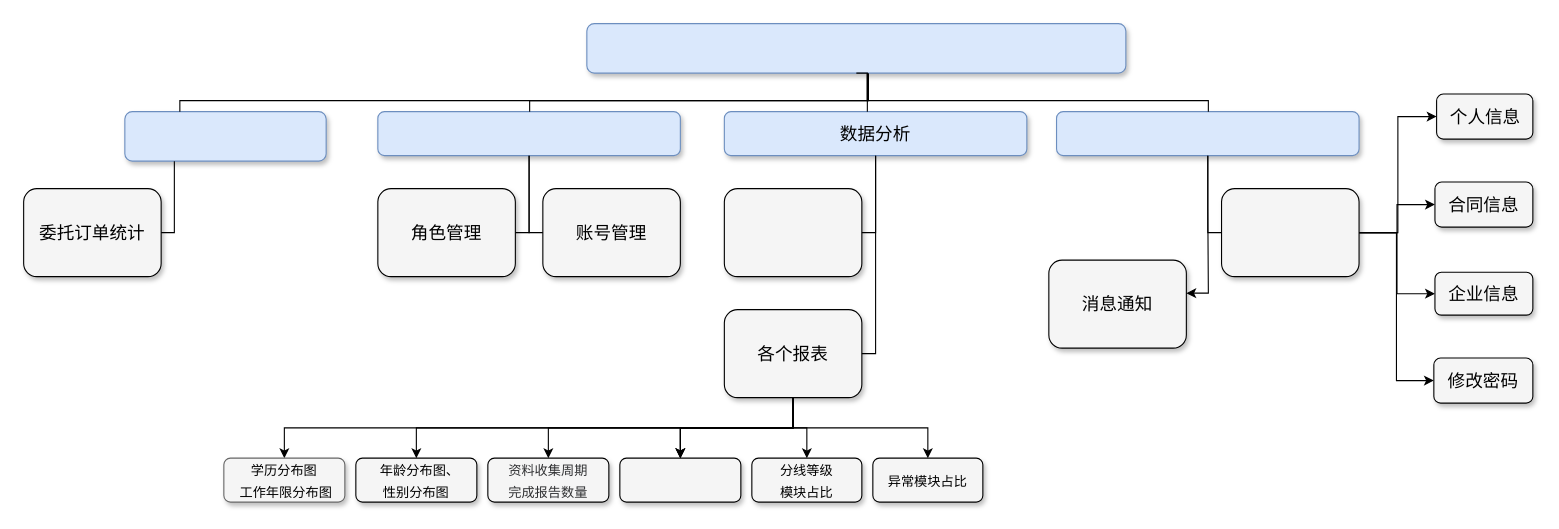
The diagram is 1559 pixels wide and 529 high, and some of its shapes have lost their labels. The centre of each missing label's shape, as x and y in pixels:
Online: [856,49]
下载报告: [793,233]
年委托量 委托套餐分别: [680,481]
系统管理: [529,134]
账号中心: [1291,233]
资料管理: [1208,134]
首页: [226,137]
